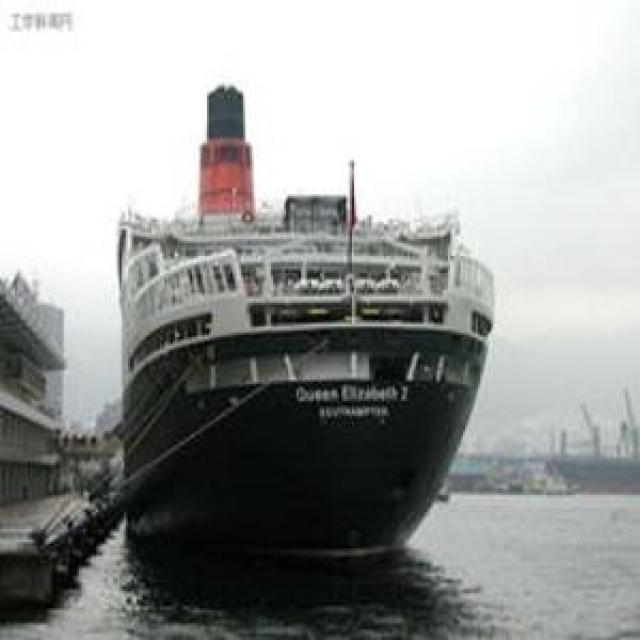passenger ship: (107, 52, 498, 532)
